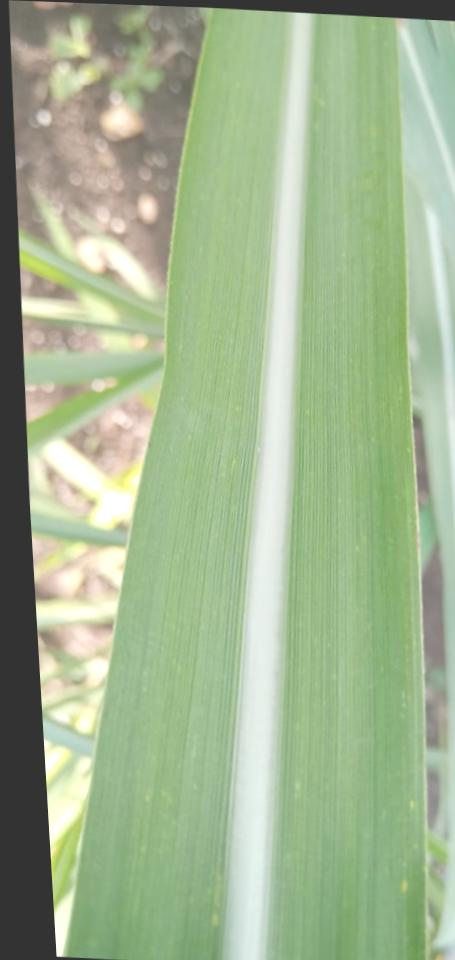Healthy: (66, 9, 428, 960)
